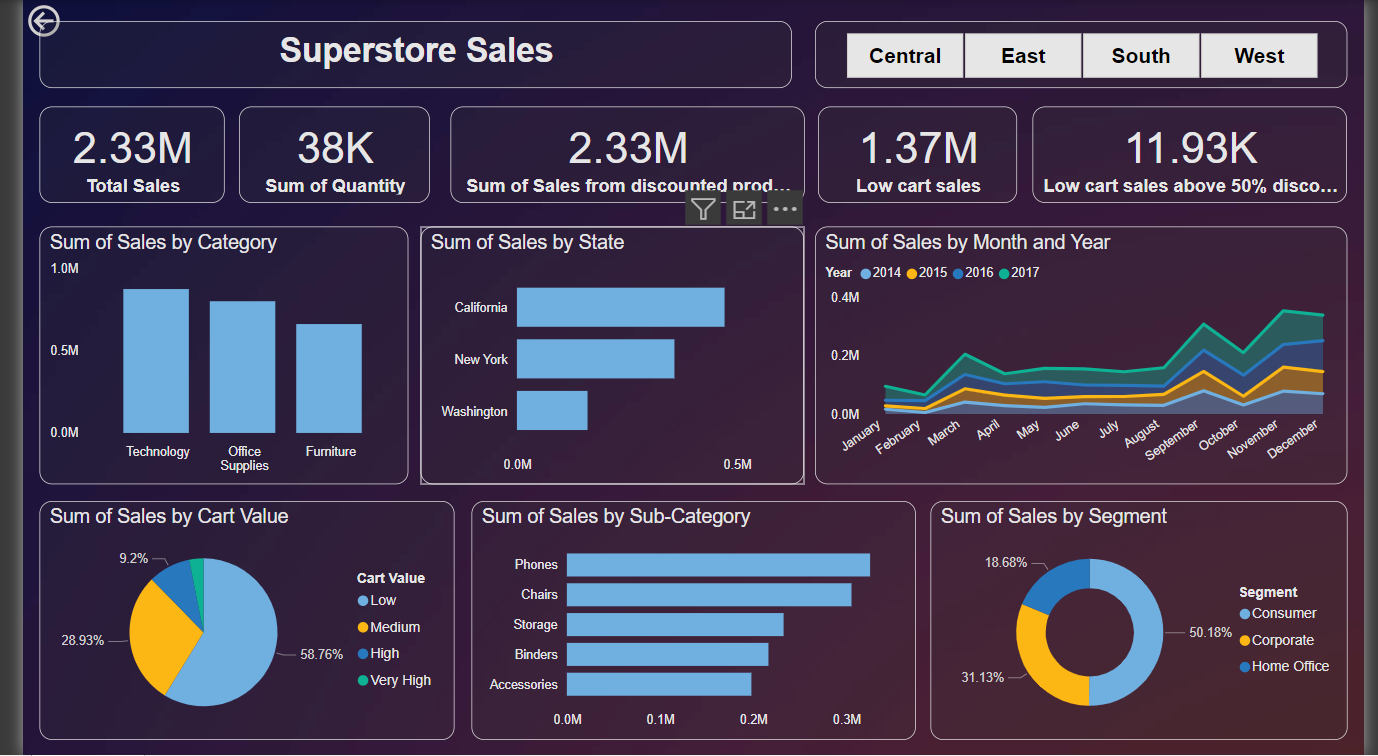

What the dashboard file says about the page in this screenshot:
{"tool":"powerbi","page":{"name":"Page 1","canvas":[1280,720],"ordinal":0},"visuals":[{"type":"card","fields":{"Values":["Sum(Orders.Sales)"]},"box":[15.9,101.7,176.4,92.2],"z":0},{"type":"pieChart","fields":{"Category":["Orders.Cart Value"],"Y":["Sum(Orders.Sales)"]},"box":[16,478,396,228],"z":1000},{"type":"actionButton","box":[0,0,100,40],"z":2000},{"type":"columnChart","fields":{"Category":["Product.Category"],"Y":["Sum(Orders.Sales)"]},"box":[16,216,352,246],"z":3000},{"type":"stackedAreaChart","fields":{"Category":["Orders.Order Date.Variation.Date Hierarchy.Month","Orders.Order Date.Variation.Date Hierarchy.Day"],"Y":["Sum(Orders.Sales)"],"Series":["Orders.Order Date.Variation.Date Hierarchy.Year"]},"box":[756,216,508,246],"z":4000},{"type":"slicer","fields":{"Values":["Order Details.Region"]},"box":[756,20,508,64],"z":5000},{"type":"card","fields":{"Values":["Orders.Low cart sales"]},"box":[686.9,100.5,191,92.1],"z":6000},{"type":"card","fields":{"Values":["Orders.low cart above 50% discount"]},"box":[898,100.5,365.2,92.1],"z":7000},{"type":"card","fields":{"Values":["Sum(Orders.Quantity)"]},"box":[206,102,182,92],"z":8000},{"type":"textbox","box":[16,20,718,64],"z":10000},{"type":"donutChart","fields":{"Category":["Customer.Segment"],"Y":["Sum(Orders.Sales)"]},"box":[866,478,398,228],"z":12000},{"type":"clusteredBarChart","fields":{"Category":["Order Details.State"],"Y":["Sum(Orders.Sales)"]},"box":[380.3,216.1,365.2,246.3],"z":13000},{"type":"card","fields":{"Values":["Orders.Discounted Sales"]},"box":[412.1,102.2,254.7,92.1],"z":14000},{"type":"barChart","fields":{"Category":["Orders.Ship Mode"],"Y":["Avg(Orders.Delivery Days)"]},"box":[428,478.1,423.7,227.6],"z":14001}]}

Visuals, with their boxes in screenshot pixels (x1, y1, x2, y2), scaled from the page's 1280x720 canvas onto the 1378x756 screenshot:
card - Sum(Orders.Sales): 17 107 207 204
pieChart - Orders.Cart Value x Sum(Orders.Sales): 17 502 444 741
actionButton: 0 0 108 42
columnChart - Product.Category x Sum(Orders.Sales): 17 227 396 485
stackedAreaChart - Orders.Order Date.Variation.Date Hierarchy.Month x Orders.Order Date.Variation.Date Hierarchy.Day: 814 227 1361 485
slicer - Order Details.Region: 814 21 1361 88
card - Orders.Low cart sales: 739 106 945 202
card - Orders.low cart above 50% discount: 967 106 1360 202
card - Sum(Orders.Quantity): 222 107 418 204
textbox: 17 21 790 88
donutChart - Customer.Segment x Sum(Orders.Sales): 932 502 1361 741
clusteredBarChart - Order Details.State x Sum(Orders.Sales): 409 227 803 486
card - Orders.Discounted Sales: 444 107 718 204
barChart - Orders.Ship Mode x Avg(Orders.Delivery Days): 461 502 917 741
